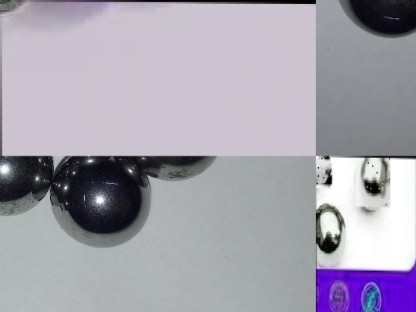ironball: (49, 156, 148, 251), (0, 153, 56, 222), (336, 0, 415, 44), (130, 152, 231, 185), (315, 202, 348, 266), (355, 156, 390, 206), (315, 157, 331, 186)
